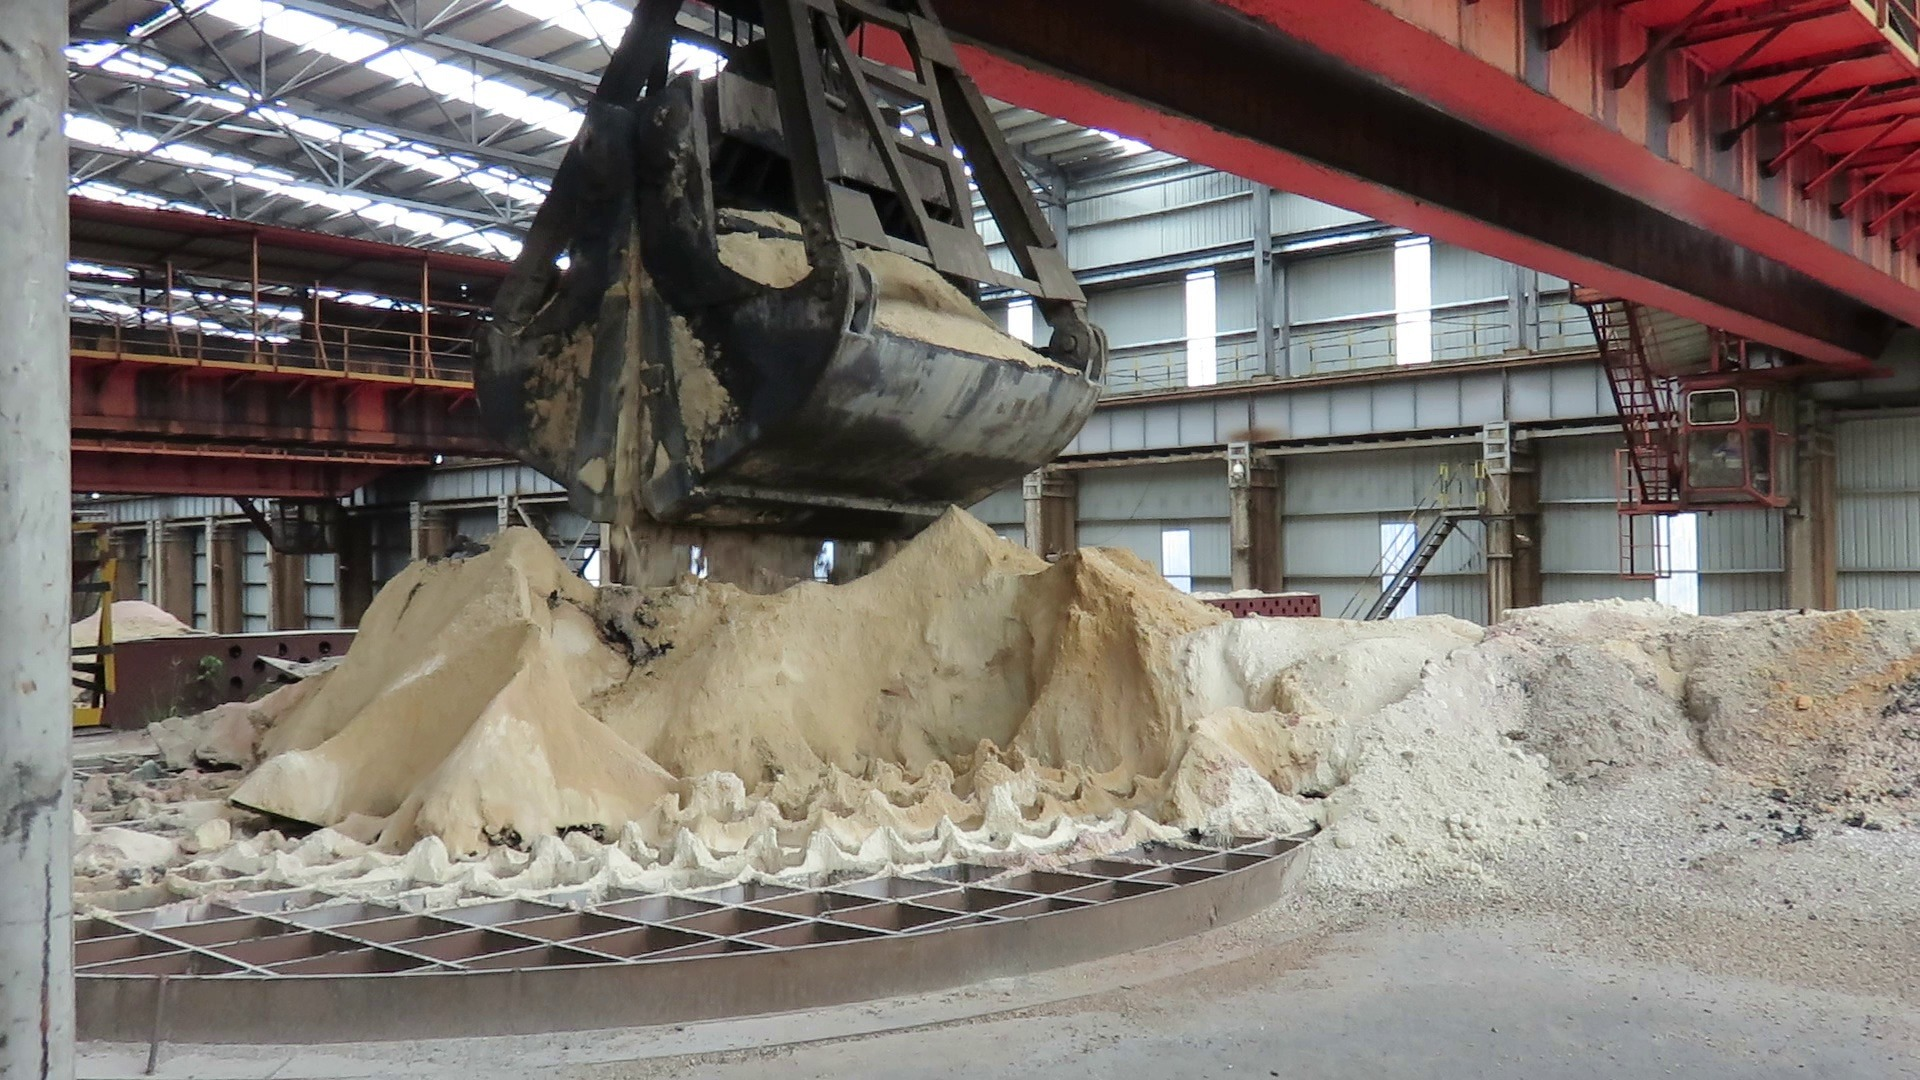grab: (472, 0, 1120, 546)
